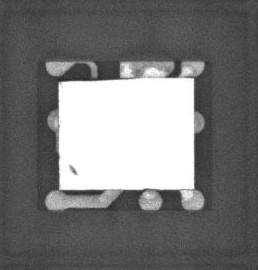DIE_INK: (65, 171, 75, 183)
